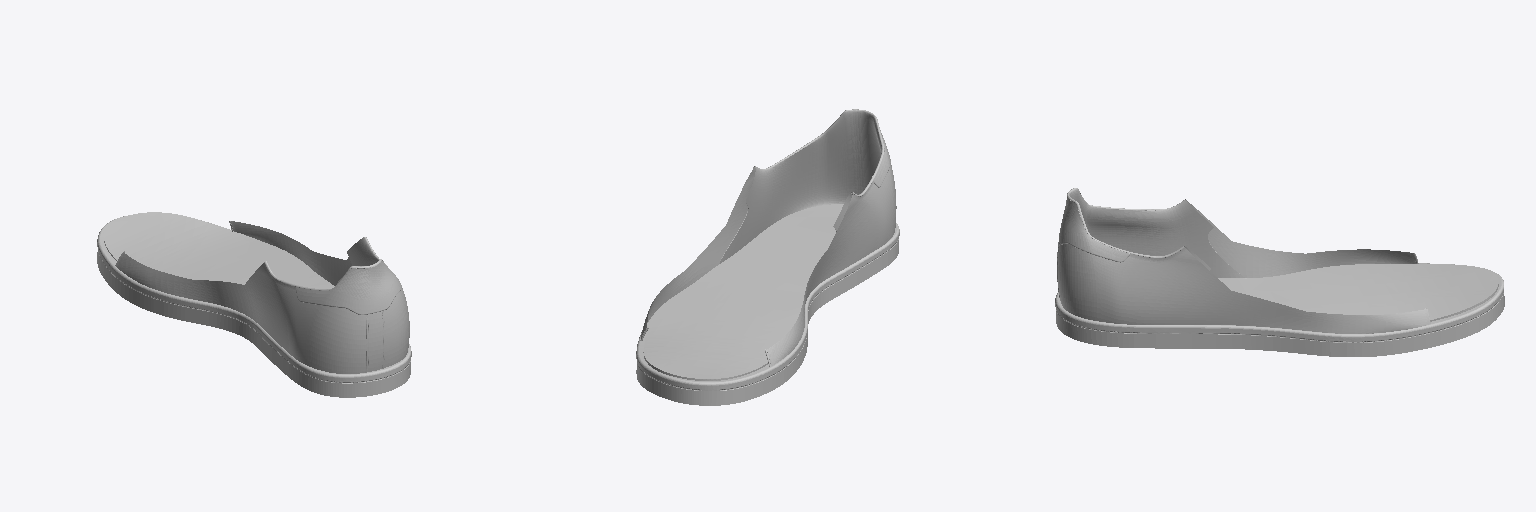
The model's file is stansmith_sole.obj.
The picture shows the model from 3 angles: view 1: azimuth 30°, elevation 25°; view 2: azimuth 150°, elevation 25°; view 3: azimuth 270°, elevation 25°; orthographic projection.
Parts seen in each view (by area): view 1: Stan_Smith_Simplified_Sole; view 2: Stan_Smith_Simplified_Sole; view 3: Stan_Smith_Simplified_Sole.
Part boxes in pixels (x1,y1,x2,y2): Stan_Smith_Simplified_Sole: (97,212,411,397); Stan_Smith_Simplified_Sole: (636,109,899,405); Stan_Smith_Simplified_Sole: (1055,188,1504,356).
Size of the model in its own units: 1.1 by 0.9209 by 2.84.